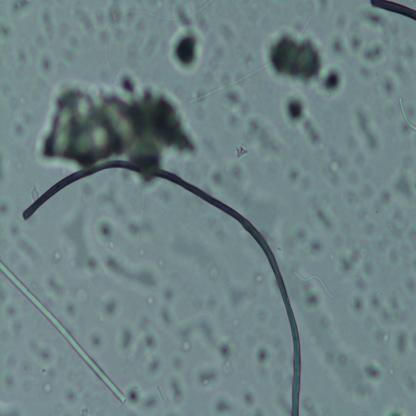Background material: (40, 78, 198, 166), (268, 29, 346, 98), (340, 162, 390, 238), (338, 244, 382, 315), (63, 204, 102, 274), (228, 104, 282, 154), (119, 319, 163, 378), (73, 10, 140, 48), (161, 307, 215, 354), (285, 92, 324, 148), (169, 22, 206, 74), (104, 258, 157, 292), (348, 33, 388, 70), (354, 106, 383, 156), (292, 226, 325, 264), (166, 351, 188, 407), (126, 383, 165, 413), (62, 286, 92, 321), (26, 334, 56, 367), (0, 345, 21, 392), (284, 163, 312, 195), (359, 356, 387, 387), (318, 344, 350, 371), (212, 162, 245, 187), (194, 363, 223, 390), (393, 170, 416, 204), (376, 68, 398, 102), (198, 262, 228, 286), (12, 106, 34, 138), (93, 217, 118, 245), (44, 270, 68, 299), (313, 202, 337, 231), (361, 9, 391, 32), (206, 214, 229, 243), (390, 329, 412, 358), (102, 293, 123, 323), (86, 324, 108, 352), (228, 286, 249, 309), (10, 0, 33, 21), (239, 384, 259, 408), (36, 51, 55, 76), (126, 222, 152, 240), (213, 339, 235, 360), (325, 156, 344, 179), (67, 385, 83, 412), (254, 348, 271, 369), (6, 221, 23, 242), (0, 197, 12, 218), (253, 270, 266, 287), (30, 183, 39, 202), (235, 146, 247, 160), (49, 384, 56, 392)
Glass filter fibre: (0, 261, 126, 403), (188, 61, 270, 105), (294, 267, 334, 302), (398, 98, 416, 130)
Microfibre: (22, 157, 304, 415), (371, 0, 416, 23)
